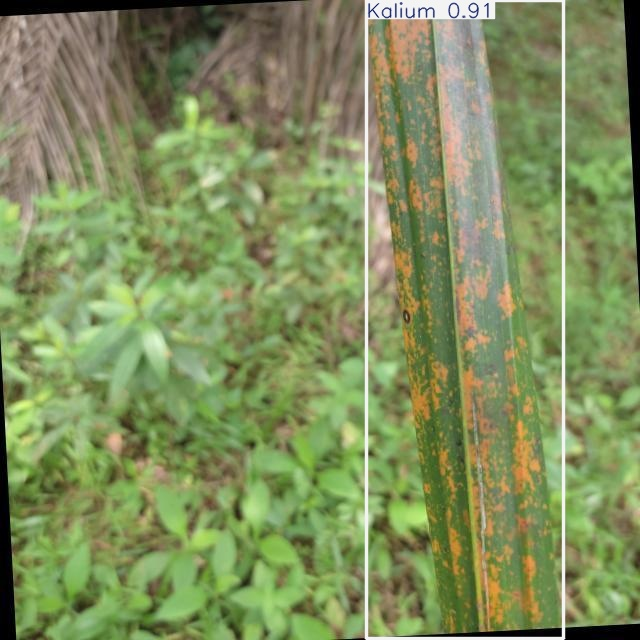Kalium: (366, 0, 563, 638)
